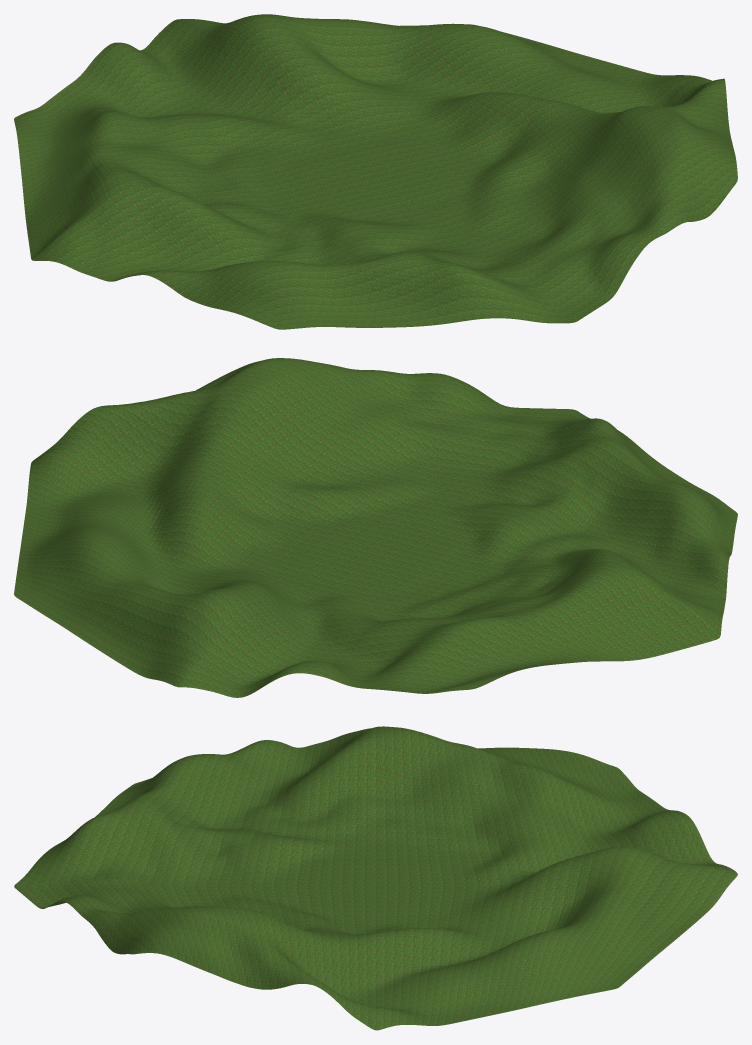
File: StandardGround.obj
3 renders of one model, top to bottom at view 1: azimuth 30°, elevation 25°; view 2: azimuth 150°, elevation 25°; view 3: azimuth 270°, elevation 25°, orthographic. The views are drawn at different scales.
Visible parts, largest first — view 1: StandardGround; view 2: StandardGround; view 3: StandardGround.
Boxes of the visible parts, bbox=[...] form: StandardGround: bbox=[14, 14, 737, 329]; StandardGround: bbox=[14, 358, 737, 697]; StandardGround: bbox=[14, 726, 737, 1030].
Size of the model in its own units: 120 by 12.18 by 120.
1 material, 1 textured.
